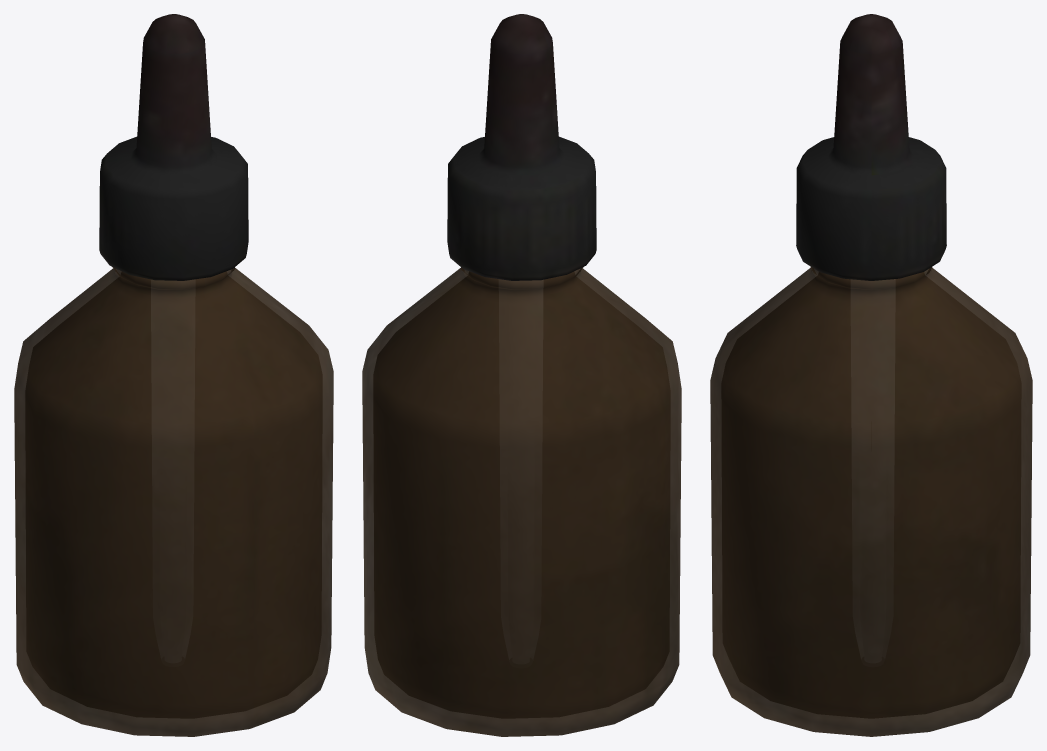
The model's file is bottle_dark_e.glb.
The picture shows the model from 3 angles, left to right: view 1: azimuth 30°, elevation 25°; view 2: azimuth 150°, elevation 25°; view 3: azimuth 270°, elevation 25°; orthographic projection.
Parts seen in each view (by area): view 1: chemistry_set_bottle_dark_e.001, chemistry_set_bottle_dark_e_dropper.001; view 2: chemistry_set_bottle_dark_e.001, chemistry_set_bottle_dark_e_dropper.001; view 3: chemistry_set_bottle_dark_e.001, chemistry_set_bottle_dark_e_dropper.001.
Part boxes in pixels (<box>): chemistry_set_bottle_dark_e.001: <box>14,267,333,736</box>; chemistry_set_bottle_dark_e_dropper.001: <box>99,14,248,280</box>; chemistry_set_bottle_dark_e.001: <box>362,267,681,736</box>; chemistry_set_bottle_dark_e_dropper.001: <box>447,14,596,280</box>; chemistry_set_bottle_dark_e.001: <box>710,267,1032,736</box>; chemistry_set_bottle_dark_e_dropper.001: <box>796,14,946,280</box>.
Bounding box in the file's own units: 0.0498 × 0.1135 × 0.0498.
2 materials, 2 textured.
